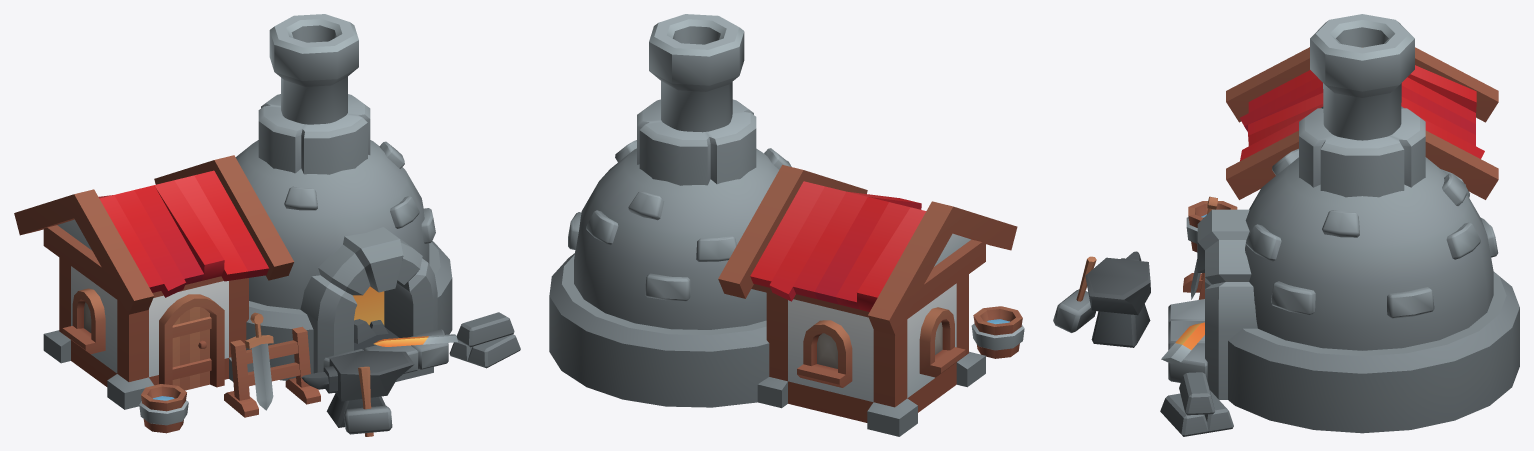
Rendered from code-factory.glb.
3 renders of one model, left to right at view 1: azimuth 30°, elevation 25°; view 2: azimuth 150°, elevation 25°; view 3: azimuth 270°, elevation 25°, orthographic. The views are drawn at different scales.
Visible parts, largest first — view 1: building_blacksmith_red; view 2: building_blacksmith_red; view 3: building_blacksmith_red.
Part boxes in pixels (left/top/right/bottom): building_blacksmith_red: left=14, top=14, right=520, bottom=436; building_blacksmith_red: left=549, top=14, right=1024, bottom=436; building_blacksmith_red: left=1053, top=14, right=1519, bottom=436.
Bounding box in the file's own units: 1.29 × 0.9852 × 1.25.
Materials: 1 (1 with a texture image).
